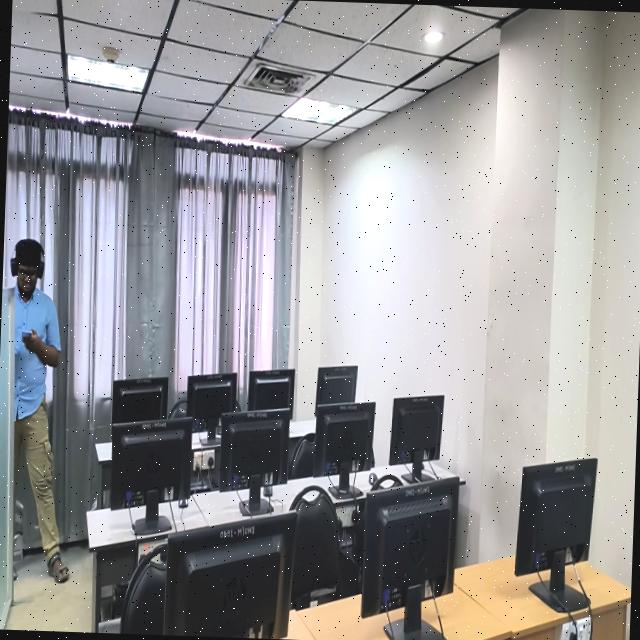Chair: (290, 485, 339, 608), (119, 540, 166, 635), (288, 432, 314, 477), (369, 473, 401, 489), (167, 401, 187, 417)
Light: (66, 53, 147, 92), (281, 96, 356, 123), (423, 30, 441, 41)
Monitor: (162, 510, 296, 638), (359, 474, 458, 640), (513, 457, 596, 625), (110, 415, 191, 534), (219, 409, 288, 515), (312, 401, 374, 498), (388, 395, 442, 480), (185, 371, 239, 439), (110, 376, 167, 423), (247, 368, 293, 416), (314, 365, 356, 413)
